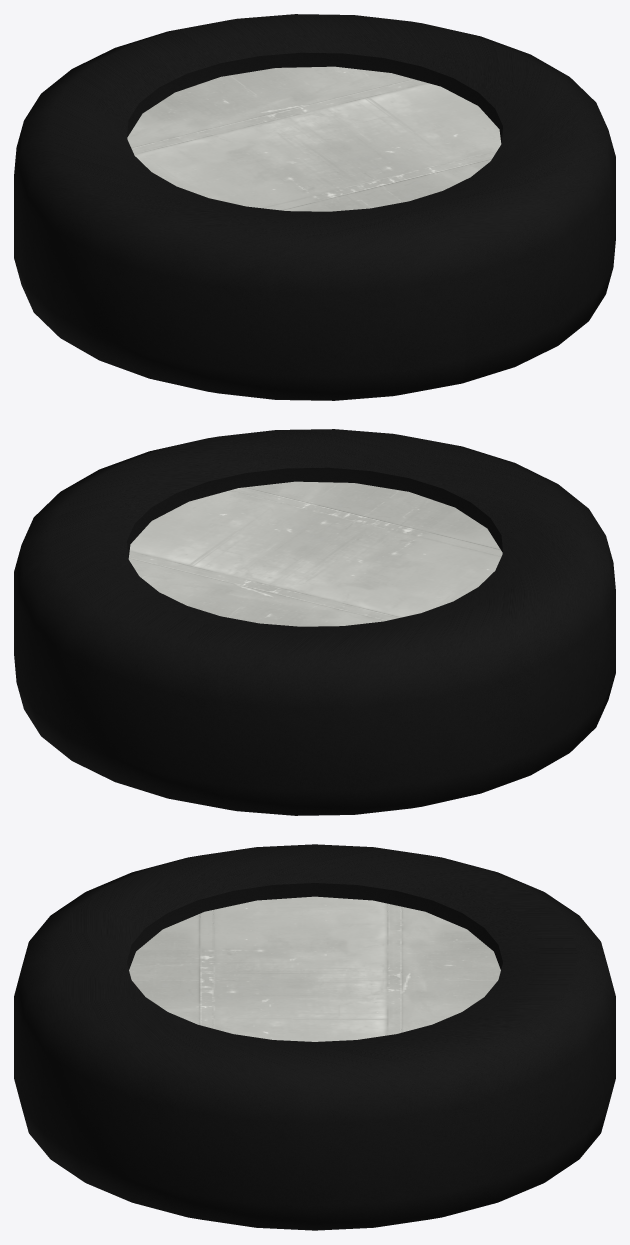
The model's file is sparetire.glb.
The picture shows the model from 3 angles, top to bottom: view 1: azimuth 30°, elevation 25°; view 2: azimuth 150°, elevation 25°; view 3: azimuth 270°, elevation 25°; orthographic projection.
Visible parts, largest first — view 1: SpareTire; view 2: SpareTire; view 3: SpareTire.
Boxes of the visible parts, left/top/right/bottom form: SpareTire: left=14, top=14, right=615, bottom=400; SpareTire: left=14, top=429, right=615, bottom=815; SpareTire: left=14, top=844, right=615, bottom=1230.
Size of the model in its own units: 0.8 by 0.24 by 0.8.
Materials: 2 (2 with a texture image).
